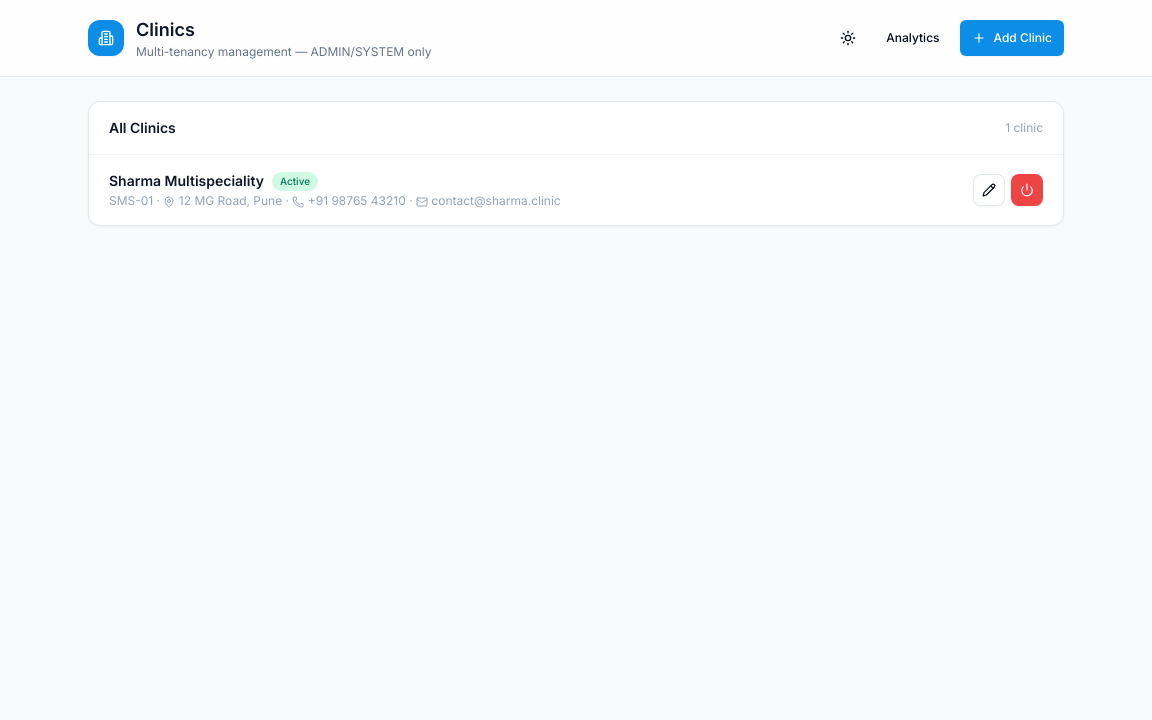
Scenario: ClinicsPage › rejects a code with invalid characters
Click the button "Add Clinic".
click(1012, 38)  # box [960, 20, 1064, 56]
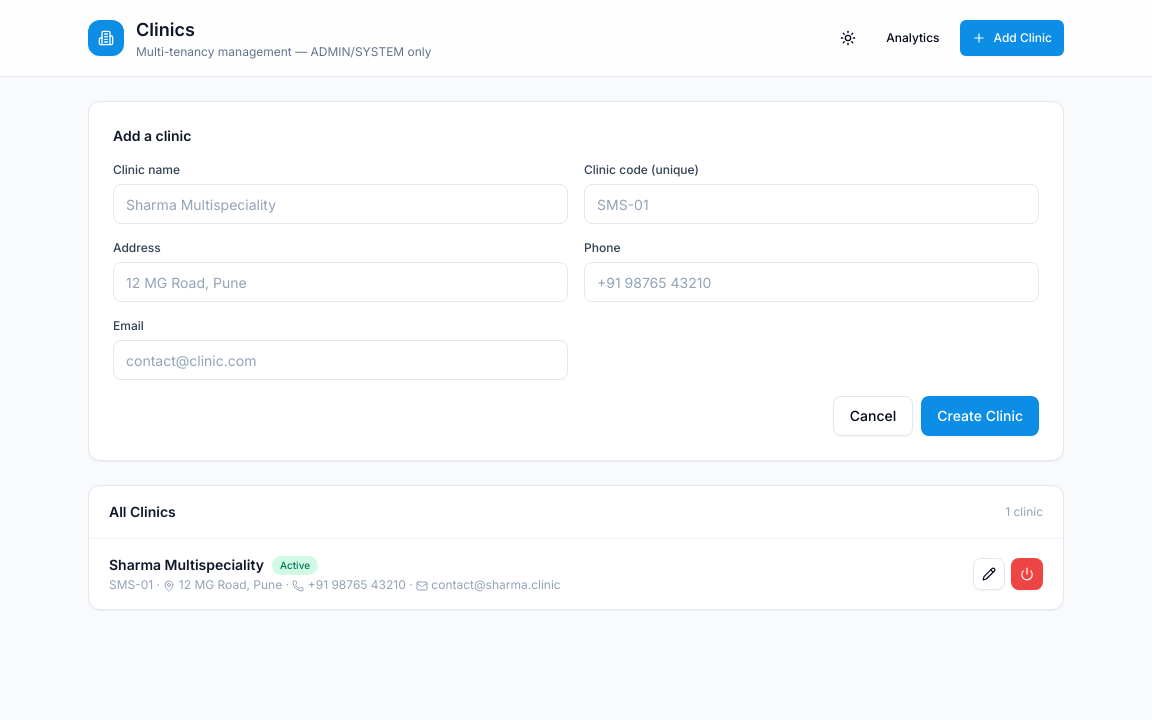
Type "X" into the field labelled "Clinic name".
click(340, 204); type("X")  # box [113, 184, 568, 224]
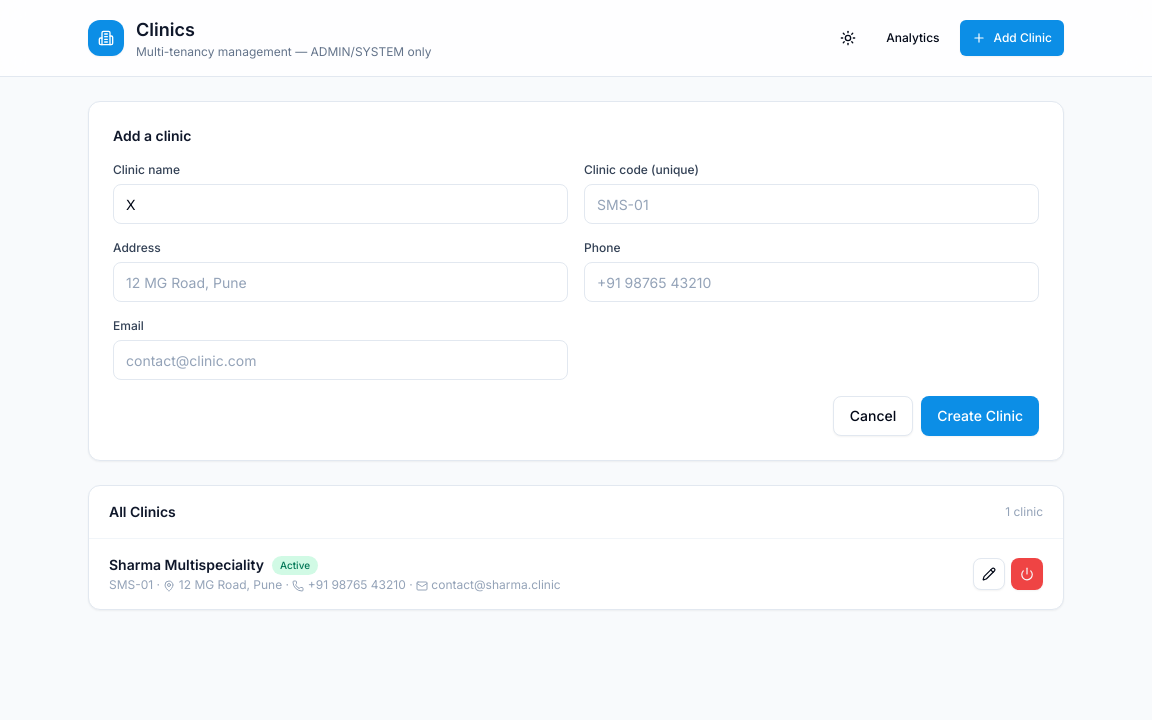
Type "bad code!" into the field labelled "Clinic code (unique)".
click(812, 204); type("bad code!")  # box [584, 184, 1039, 224]
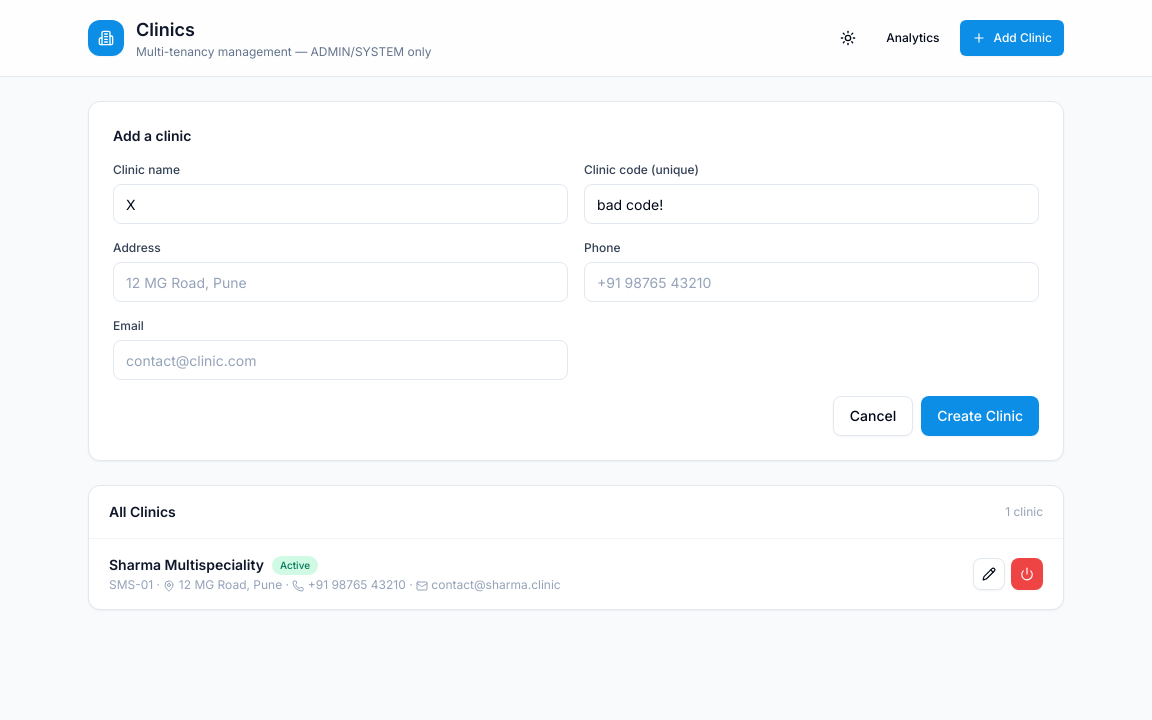
Click the button "Create Clinic".
click(980, 416)  # box [921, 396, 1039, 436]
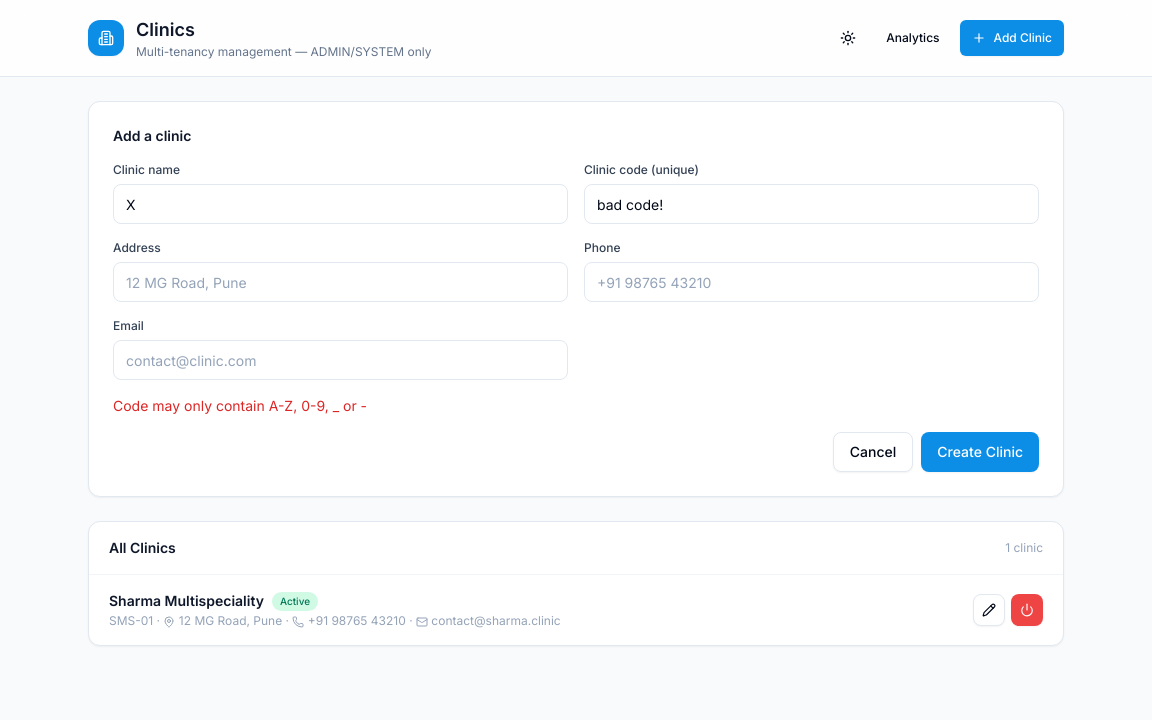
Check: the text "Code may only contain A-Z, 0-9, _ or -" is shown, box [113, 397, 367, 414]
